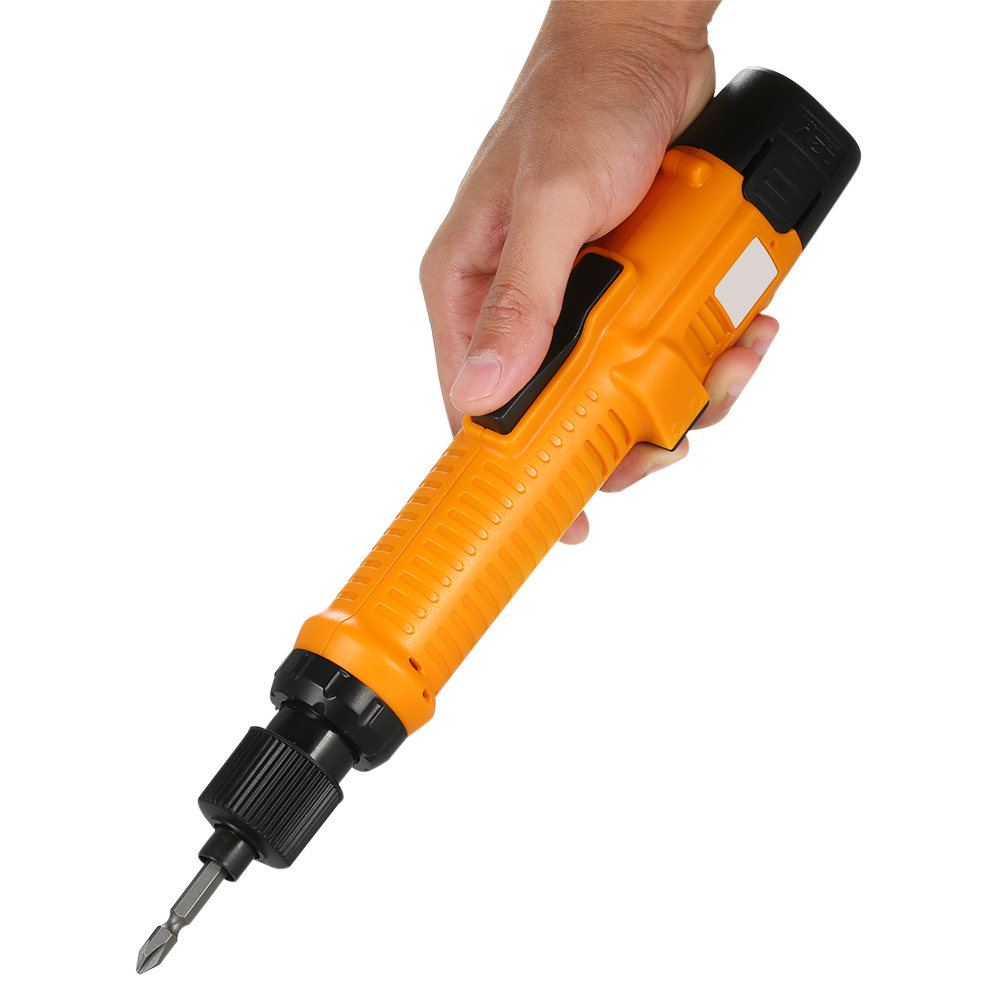screwdriver: (130, 63, 862, 979)
